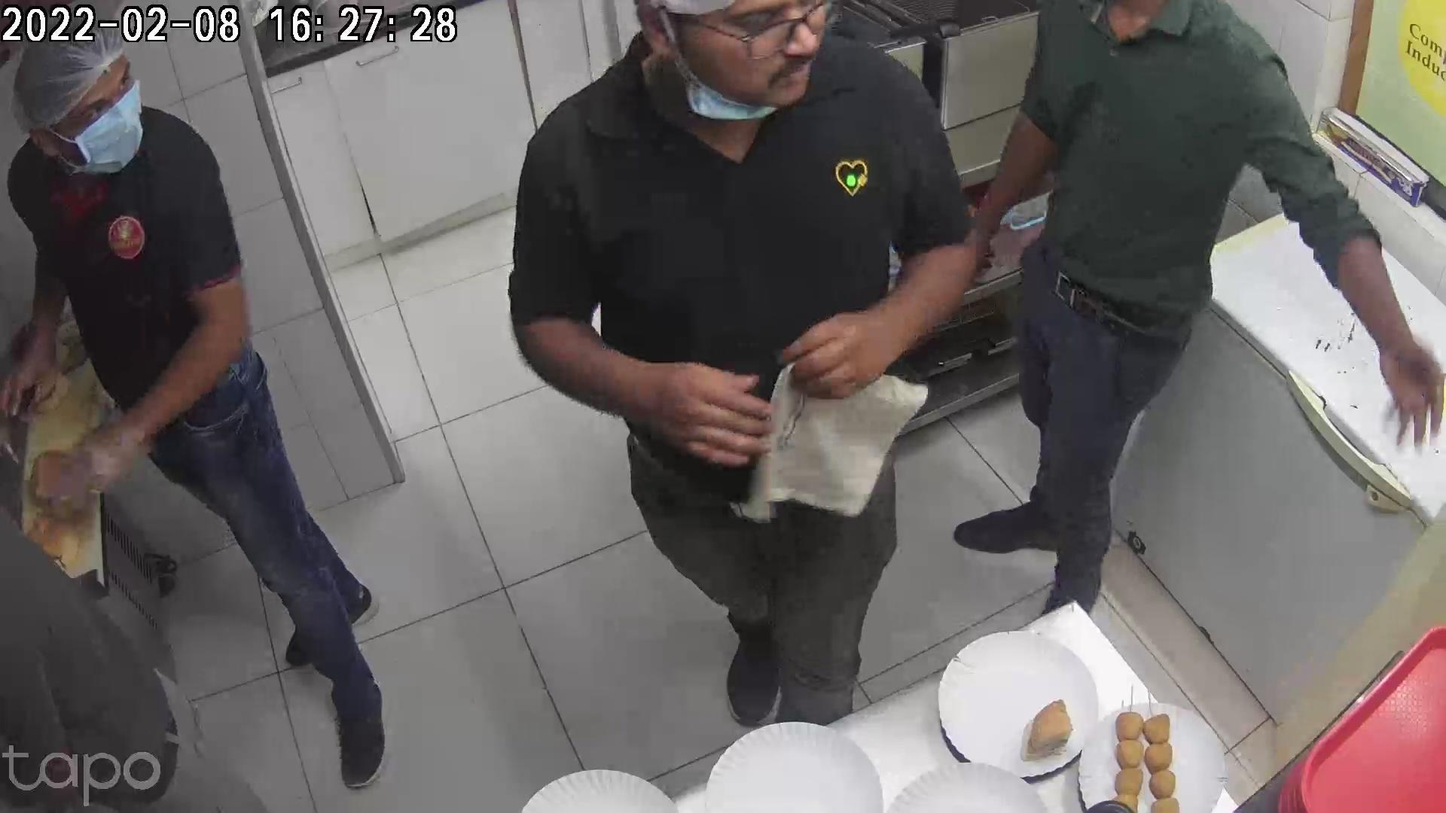no_gloves: (634, 361, 766, 468)
